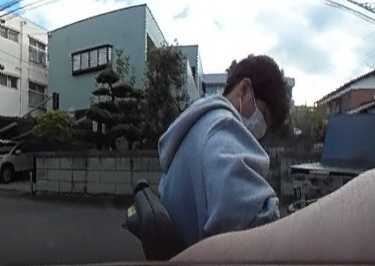person: (166, 53, 293, 265)
